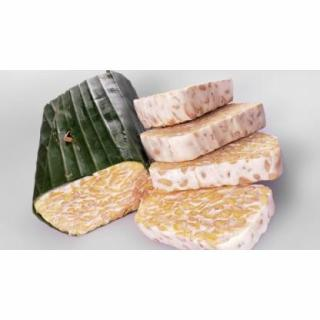Tempe: (29, 69, 287, 251)
